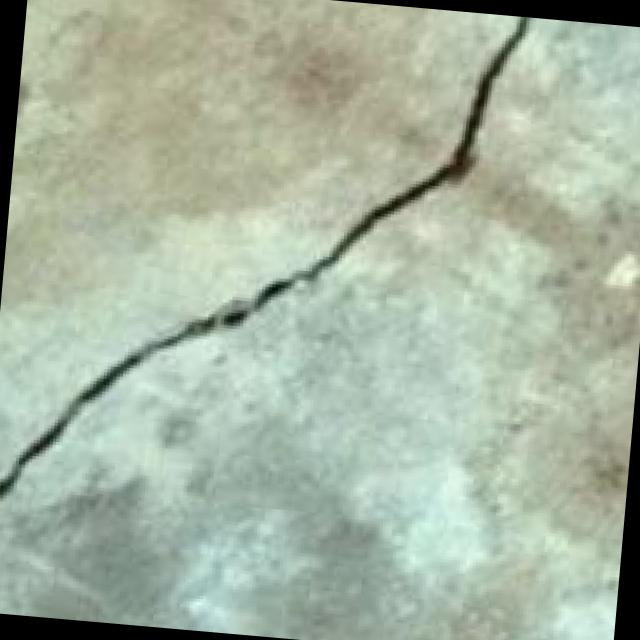crack: (0, 0, 555, 567)
